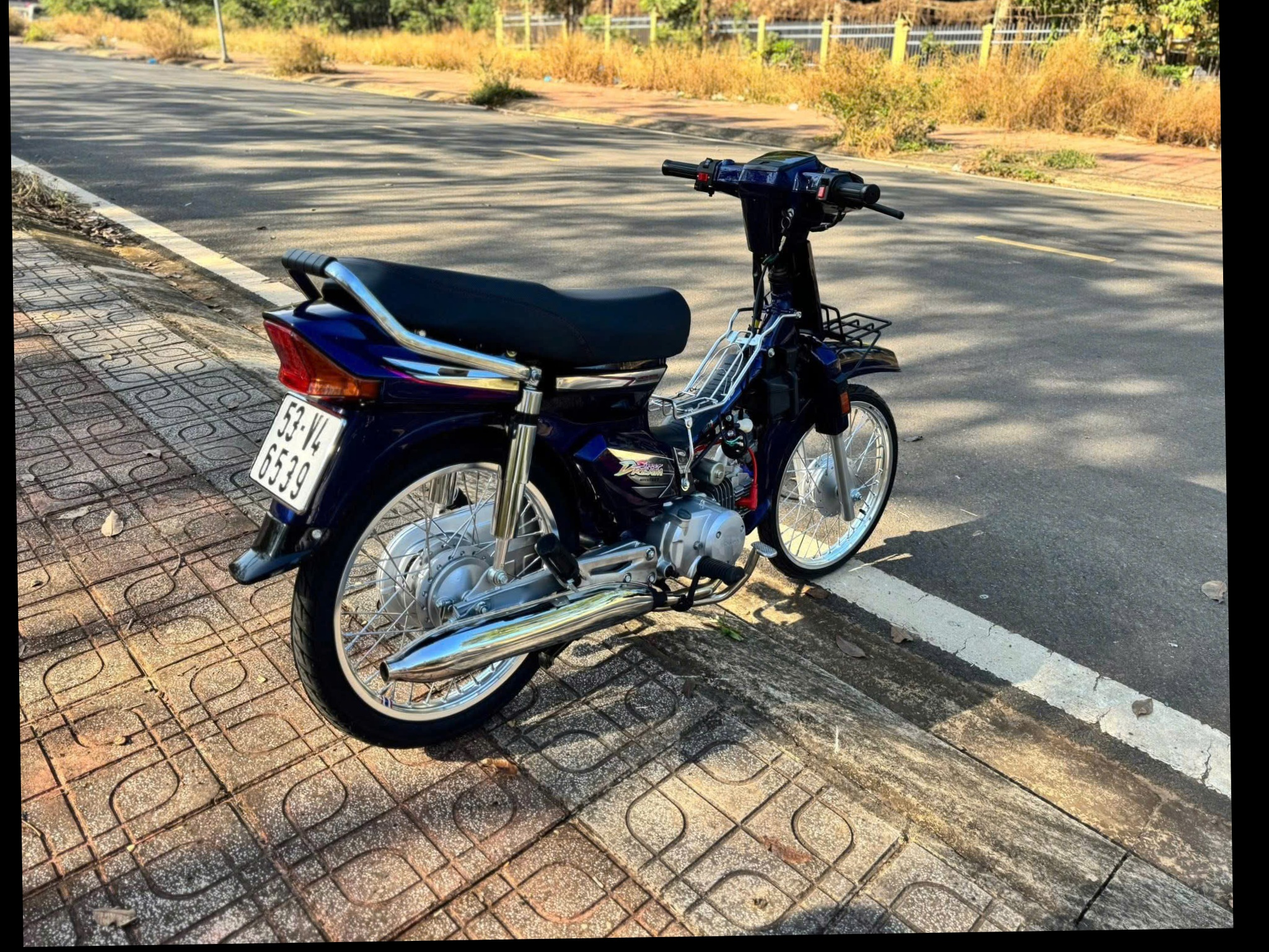Bien-so: (237, 430, 354, 548)
